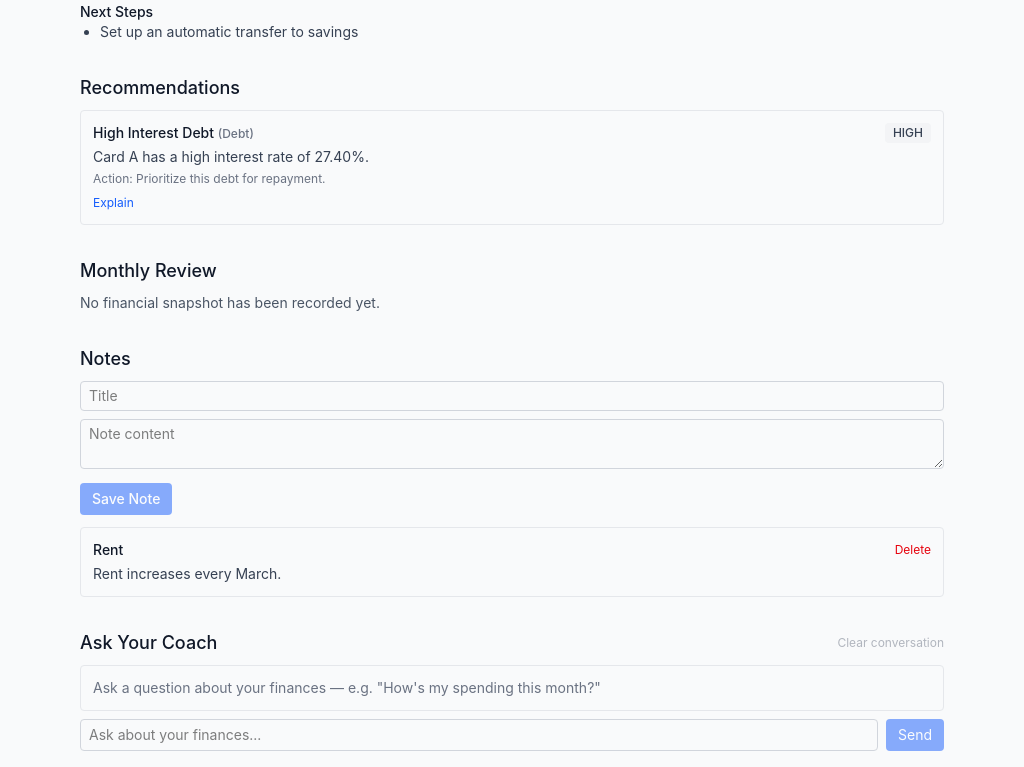
it: CoachPage › deletes a note when Delete is clicked
The image size is (1024, 767).
(page scrolled)
Click the button "Delete" at (913, 550), box [895,542,931,558]
(page scrolled)
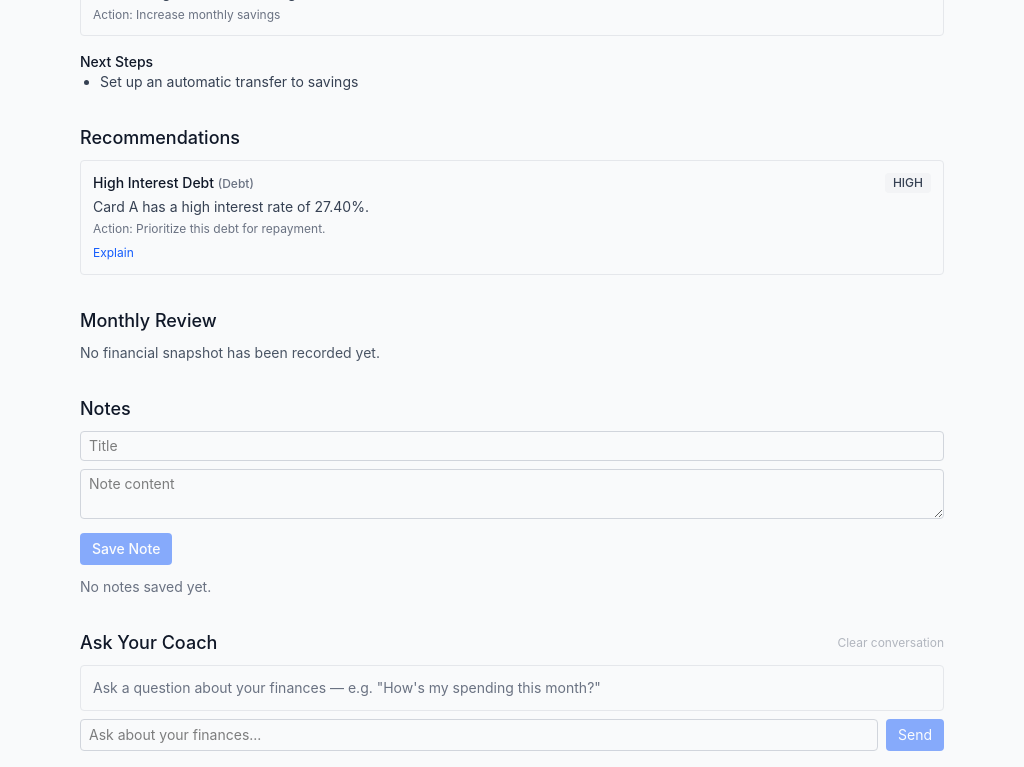
Expected: the text "Rent" is gone
